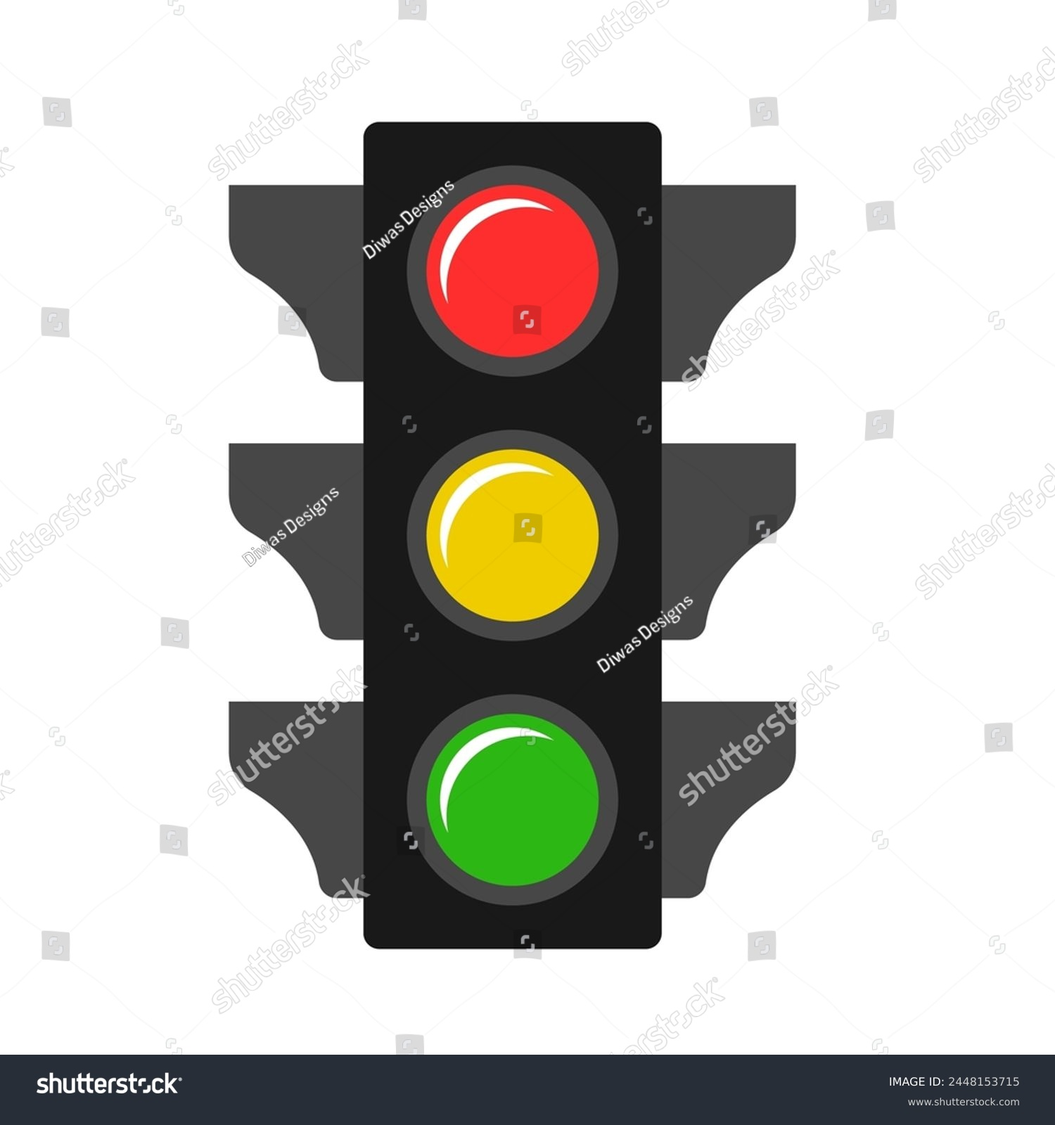TraficLight: (187, 96, 859, 990)
